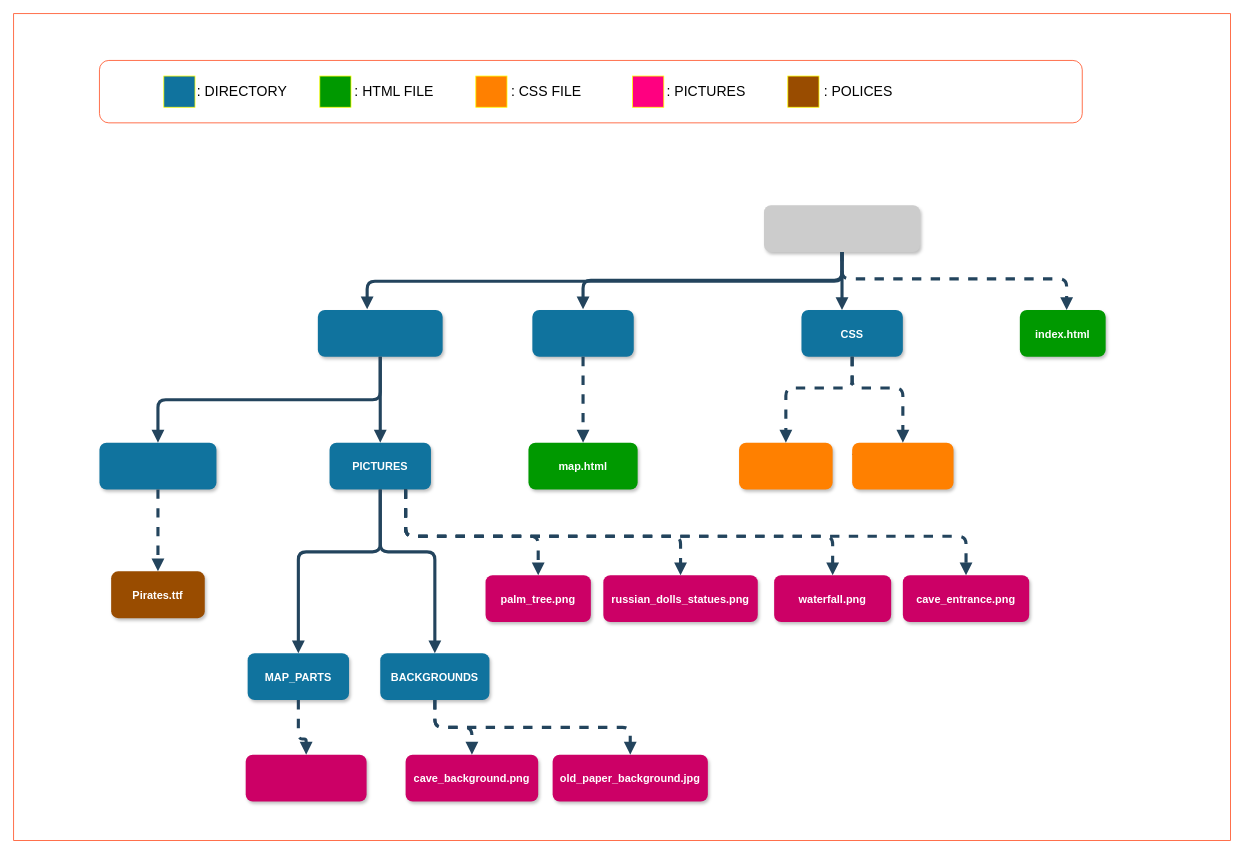
Some shapes in this 1244 by 854 pixel diagram are drawn without their labels. The centre of each missing label's shape, as x and y in pixels:
"custom.css" belongs at pixel 903 467.
"FONTS" belongs at pixel 158 467.
"map.css" belongs at pixel 786 467.
"map_part_XX.png (from 01 to 18)" belongs at pixel 306 779.
"PAGES" belongs at pixel 583 334.
"RESOURCES" belongs at pixel 380 334.
"SITE ROOT" belongs at pixel 842 229.
